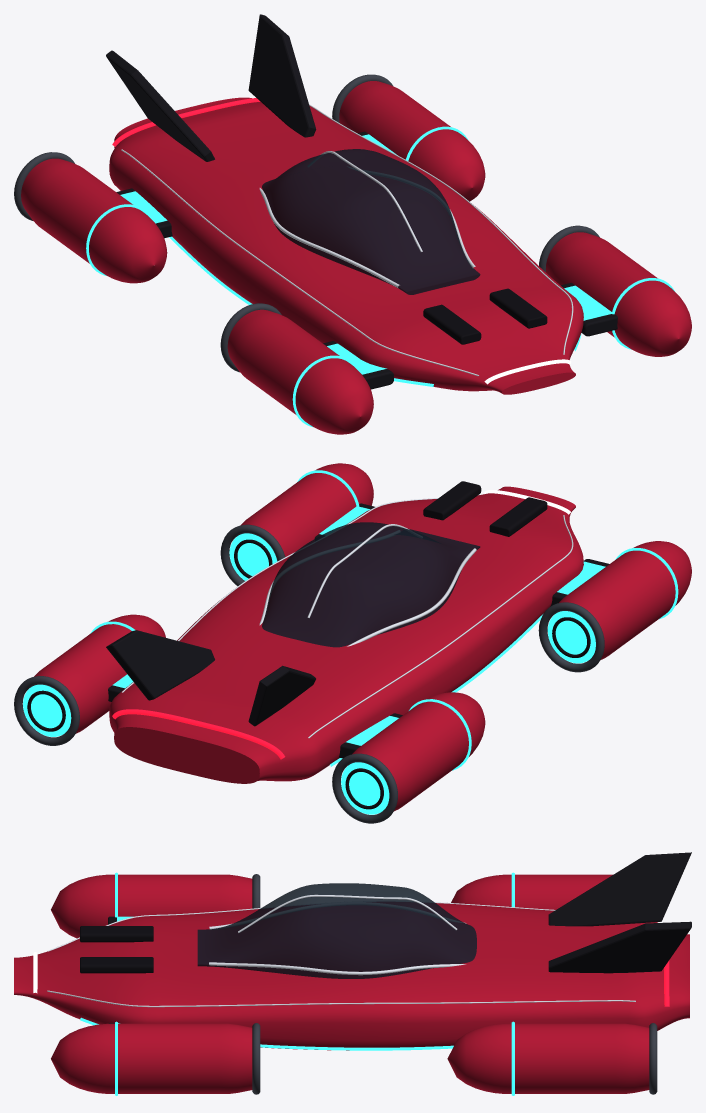
The model's file is korona.glb.
3 renders of one model, top to bottom at view 1: azimuth 30°, elevation 25°; view 2: azimuth 150°, elevation 25°; view 3: azimuth 270°, elevation 25°, orthographic. The views are drawn at different scales.
Visible parts, largest first — view 1: paint (×5), glass, paint2, chrome, carbon, neon, gunmetal (×2), light_tail; view 2: paint (×5), glass, thrust (×4), paint2, gunmetal (×4), chrome, carbon, neon, light_tail; view 3: paint (×5), glass, paint2, chrome, carbon, gunmetal (×2), neon.
Part boxes in pixels (box(x1,y1,x2,y2)): paint (×5): box(21, 81, 691, 434); glass: box(262, 149, 480, 294); paint2: box(106, 14, 617, 389); chrome: box(121, 104, 573, 376); carbon: box(423, 288, 547, 344); neon: box(120, 134, 611, 386); gunmetal (×2): box(14, 152, 281, 372); light_tail: box(112, 98, 260, 146); paint (×5): box(34, 463, 691, 811); glass: box(262, 522, 480, 647); thrust (×4): box(23, 470, 678, 814); paint2: box(106, 503, 609, 758); gunmetal (×4): box(14, 524, 604, 823); chrome: box(122, 494, 573, 738); carbon: box(423, 481, 547, 536); neon: box(112, 506, 605, 766); light_tail: box(112, 709, 285, 759); paint (×5): box(14, 874, 689, 1093); glass: box(197, 883, 476, 978); paint2: box(108, 852, 691, 1023); chrome: box(47, 894, 635, 1007); carbon: box(80, 926, 153, 973); gunmetal (×2): box(252, 1023, 657, 1094); neon: box(80, 916, 453, 1050).
Size of the model in its own units: 2.91 by 0.9831 by 4.61.
